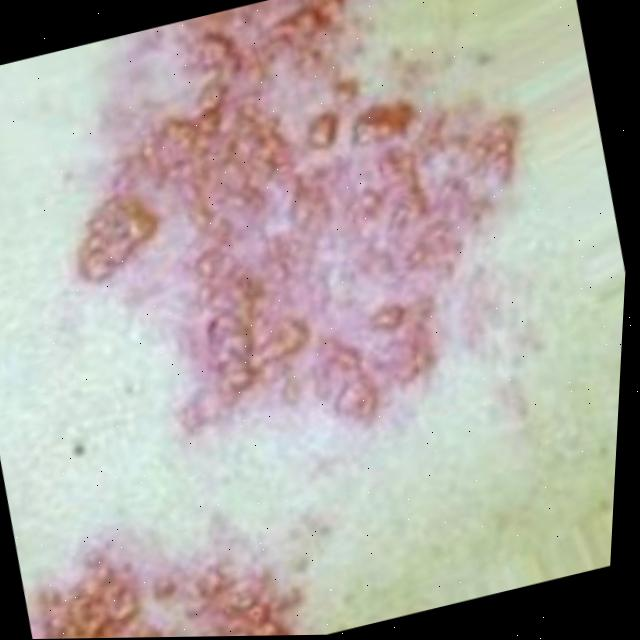Shingles: (17, 0, 590, 479), (26, 491, 327, 639)
